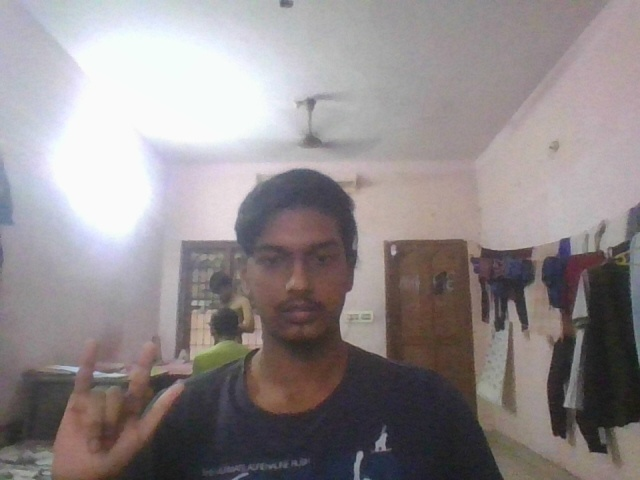iloveyou: (45, 333, 184, 480)
